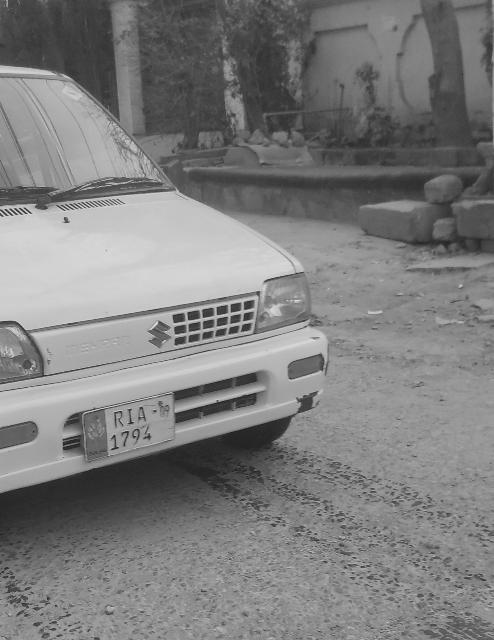Number: (109, 402, 155, 454)
